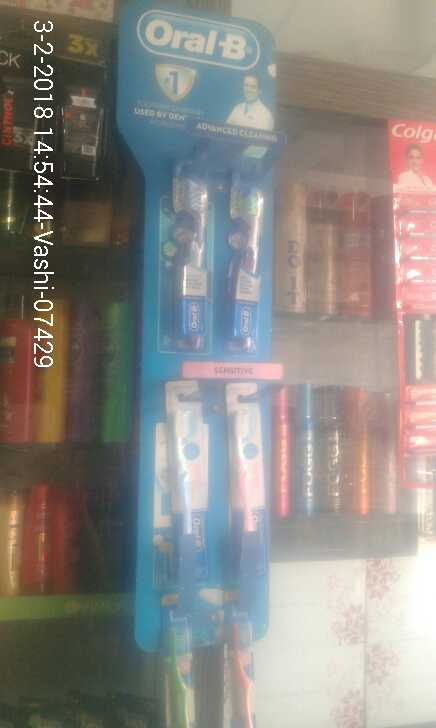oralb: (160, 395, 207, 577), (226, 406, 265, 599), (172, 179, 216, 347), (228, 182, 270, 348)
